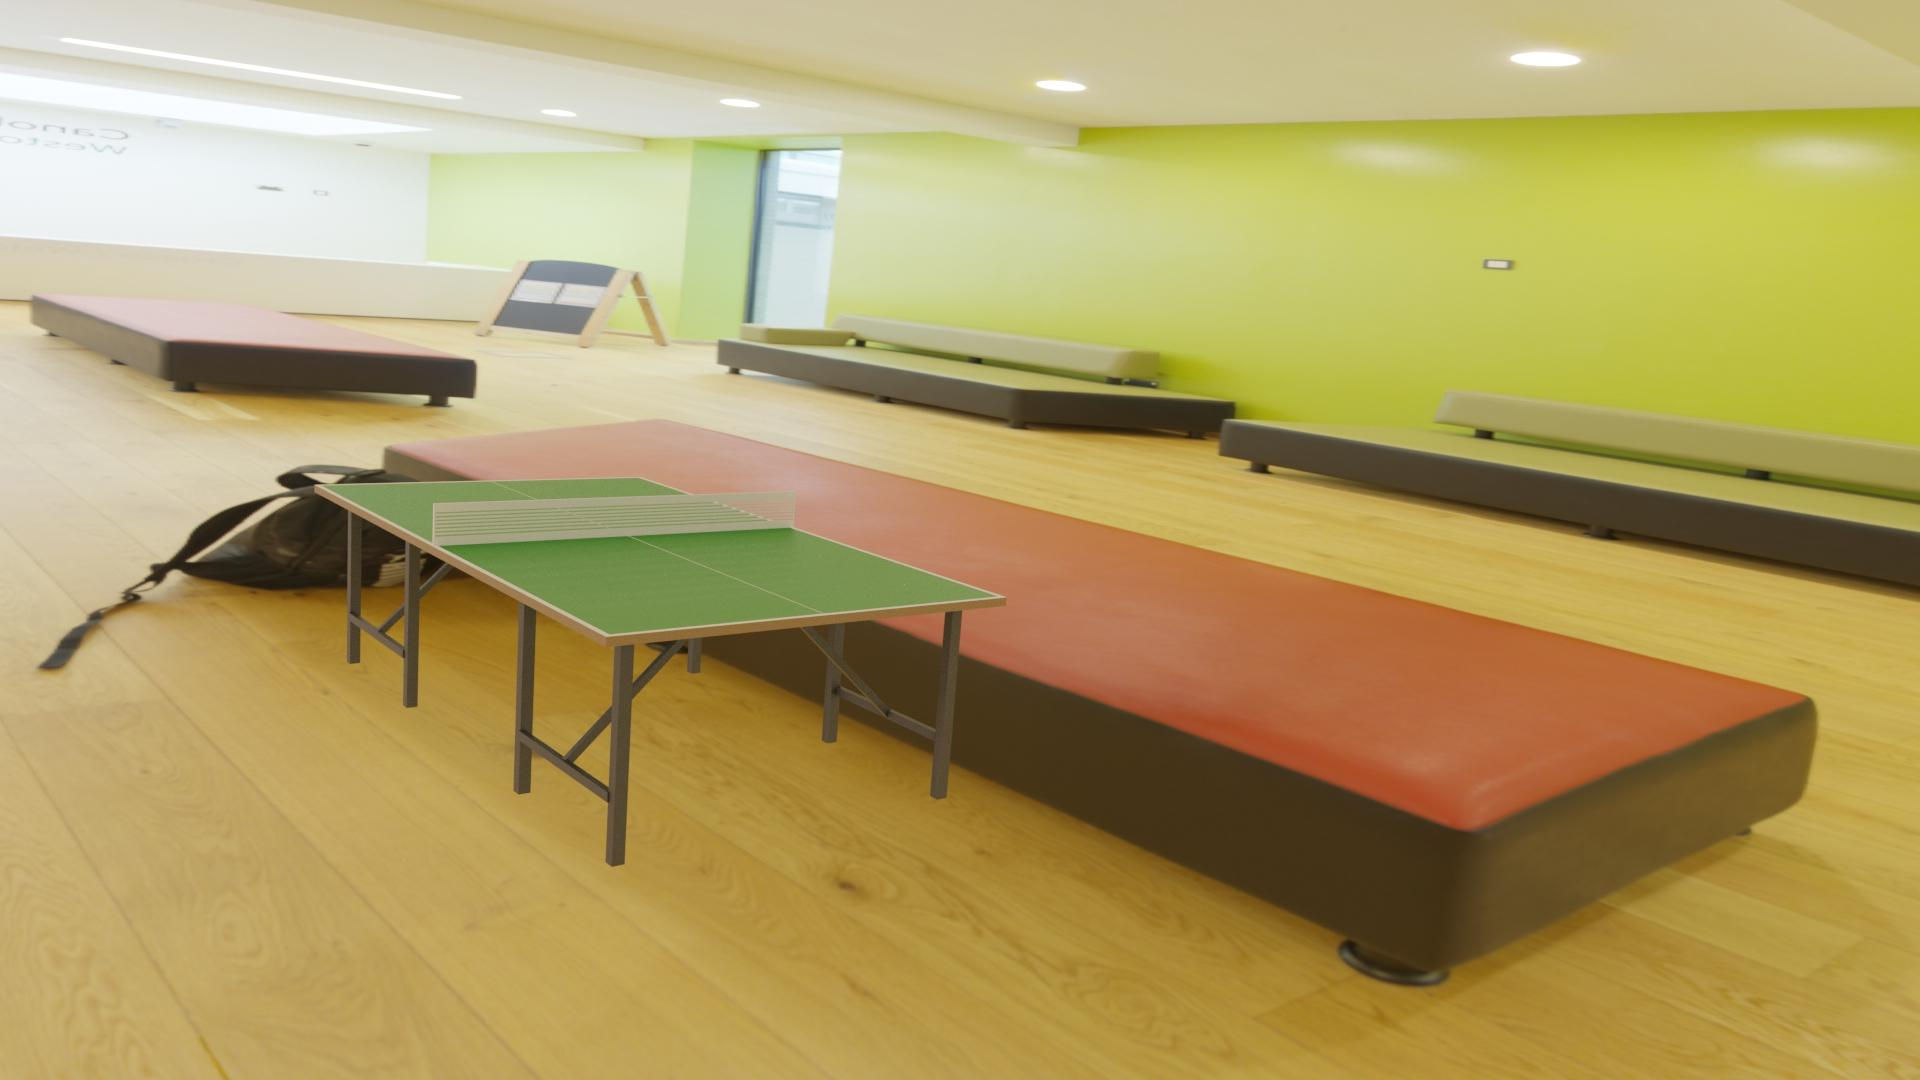table: (320, 477, 998, 634)
